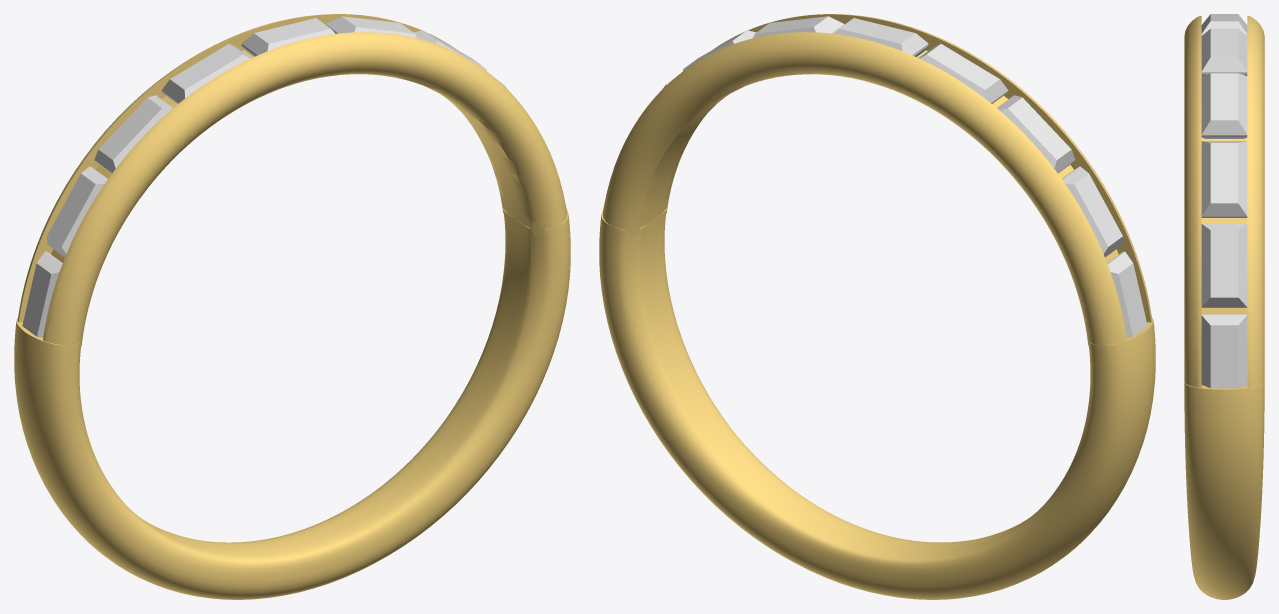
Rendered from JodieYGwb_blender.glb.
The picture shows the model from 3 angles, left to right: view 1: azimuth 30°, elevation 25°; view 2: azimuth 150°, elevation 25°; view 3: azimuth 270°, elevation 25°; orthographic projection. The views are drawn at different scales.
Visible parts, largest first — view 1: Jodie YG for 3d model, Jodie dia for 3d model.001, Jodie dia for 3d model.002, Jodie dia for 3d model, Jodie dia for 3d model.003, Jodie dia for 3d model.008, Jodie dia for 3d model.007; view 2: Jodie YG for 3d model, Jodie dia for 3d model.001, Jodie dia for 3d model.002, Jodie dia for 3d model, Jodie dia for 3d model.003, Jodie dia for 3d model.008, Jodie dia for 3d model.007; view 3: Jodie YG for 3d model, Jodie dia for 3d model.005, Jodie dia for 3d model.006, Jodie dia for 3d model.004, Jodie dia for 3d model.007, Jodie dia for 3d model.008, Jodie dia for 3d model.
Part boxes in pixels (x1,y1,x2,y2): Jodie YG for 3d model: (14, 14, 570, 599); Jodie dia for 3d model.001: (94, 95, 172, 173); Jodie dia for 3d model.002: (47, 166, 107, 257); Jodie dia for 3d model: (161, 44, 250, 103); Jodie dia for 3d model.003: (22, 251, 62, 337); Jodie dia for 3d model.008: (241, 18, 335, 56); Jodie dia for 3d model.007: (325, 16, 416, 38); Jodie YG for 3d model: (599, 14, 1155, 599); Jodie dia for 3d model.001: (997, 95, 1075, 173); Jodie dia for 3d model.002: (1062, 166, 1122, 257); Jodie dia for 3d model: (919, 44, 1008, 103); Jodie dia for 3d model.003: (1107, 251, 1147, 337); Jodie dia for 3d model.008: (834, 18, 928, 56); Jodie dia for 3d model.007: (753, 16, 844, 38); Jodie YG for 3d model: (1184, 15, 1264, 599); Jodie dia for 3d model.005: (1201, 223, 1247, 307); Jodie dia for 3d model.006: (1201, 141, 1247, 217); Jodie dia for 3d model.004: (1201, 314, 1247, 388); Jodie dia for 3d model.007: (1201, 73, 1247, 138); Jodie dia for 3d model.008: (1201, 28, 1247, 75); Jodie dia for 3d model: (1201, 14, 1247, 35).
Bounding box in the file's own units: 19.09 × 18.9 × 2.6.
